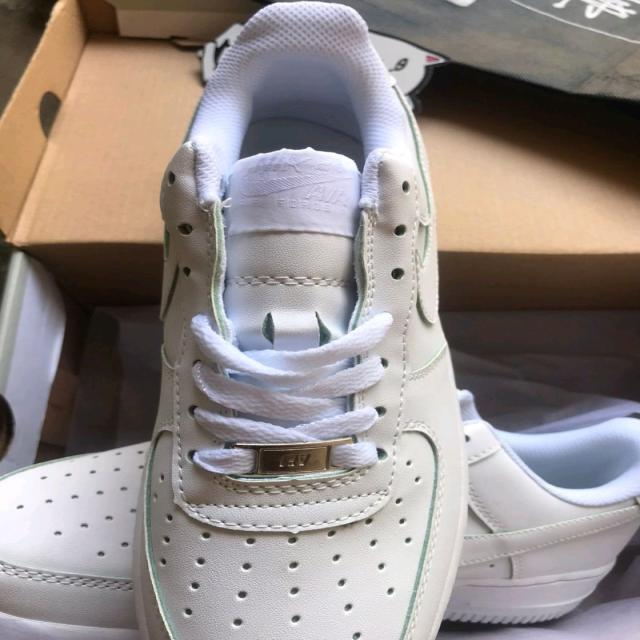nike fake air force: (136, 3, 476, 640), (0, 412, 640, 640)
